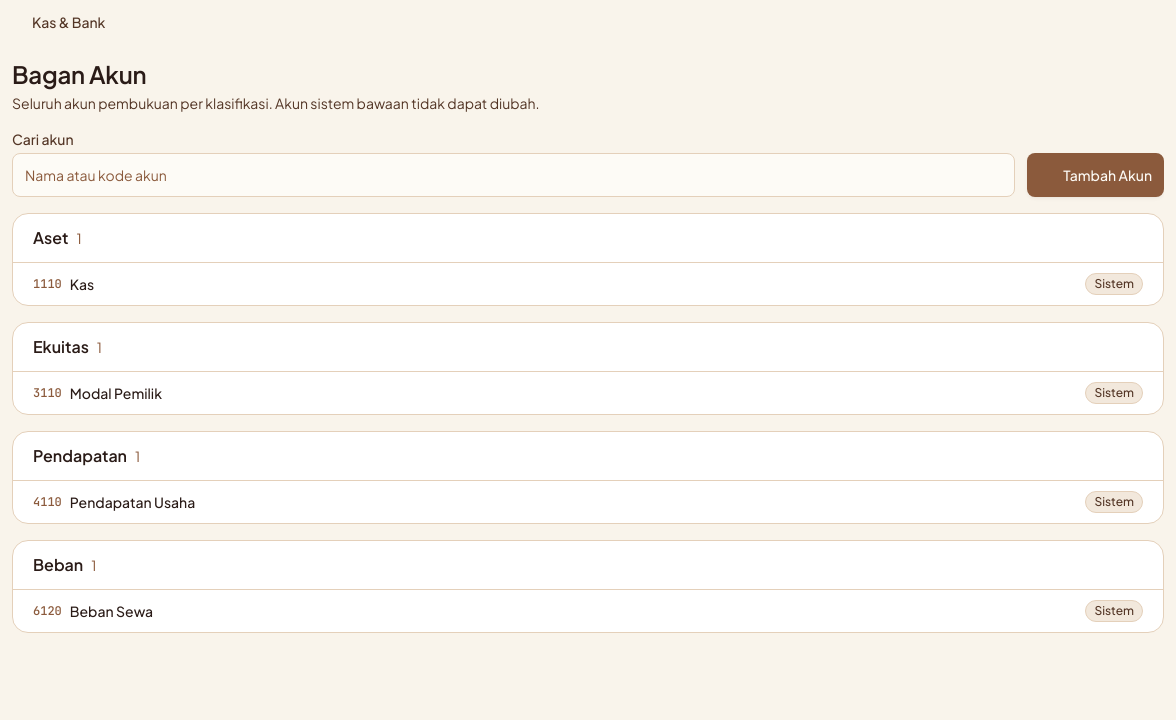
Test: ChartOfAccountsPage › pencarian memfilter akun
The image size is (1176, 720).
expect the text "4110" is shown: met, box [33,494,62,510]
Type "sewa" into the field labelled "Cari akun". click: (514, 175)
box: [12,153,1015,197]
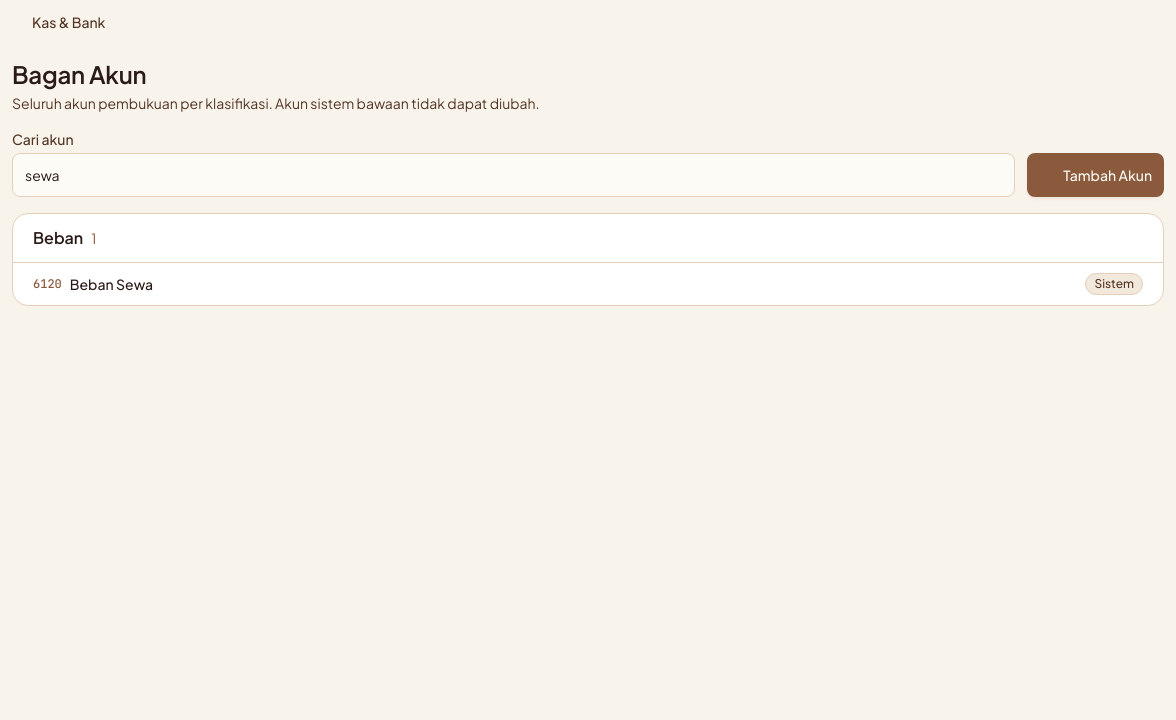
expect the text "6120" is shown: met, box [33,276,62,292]
expect the text "4110" is gone: met
